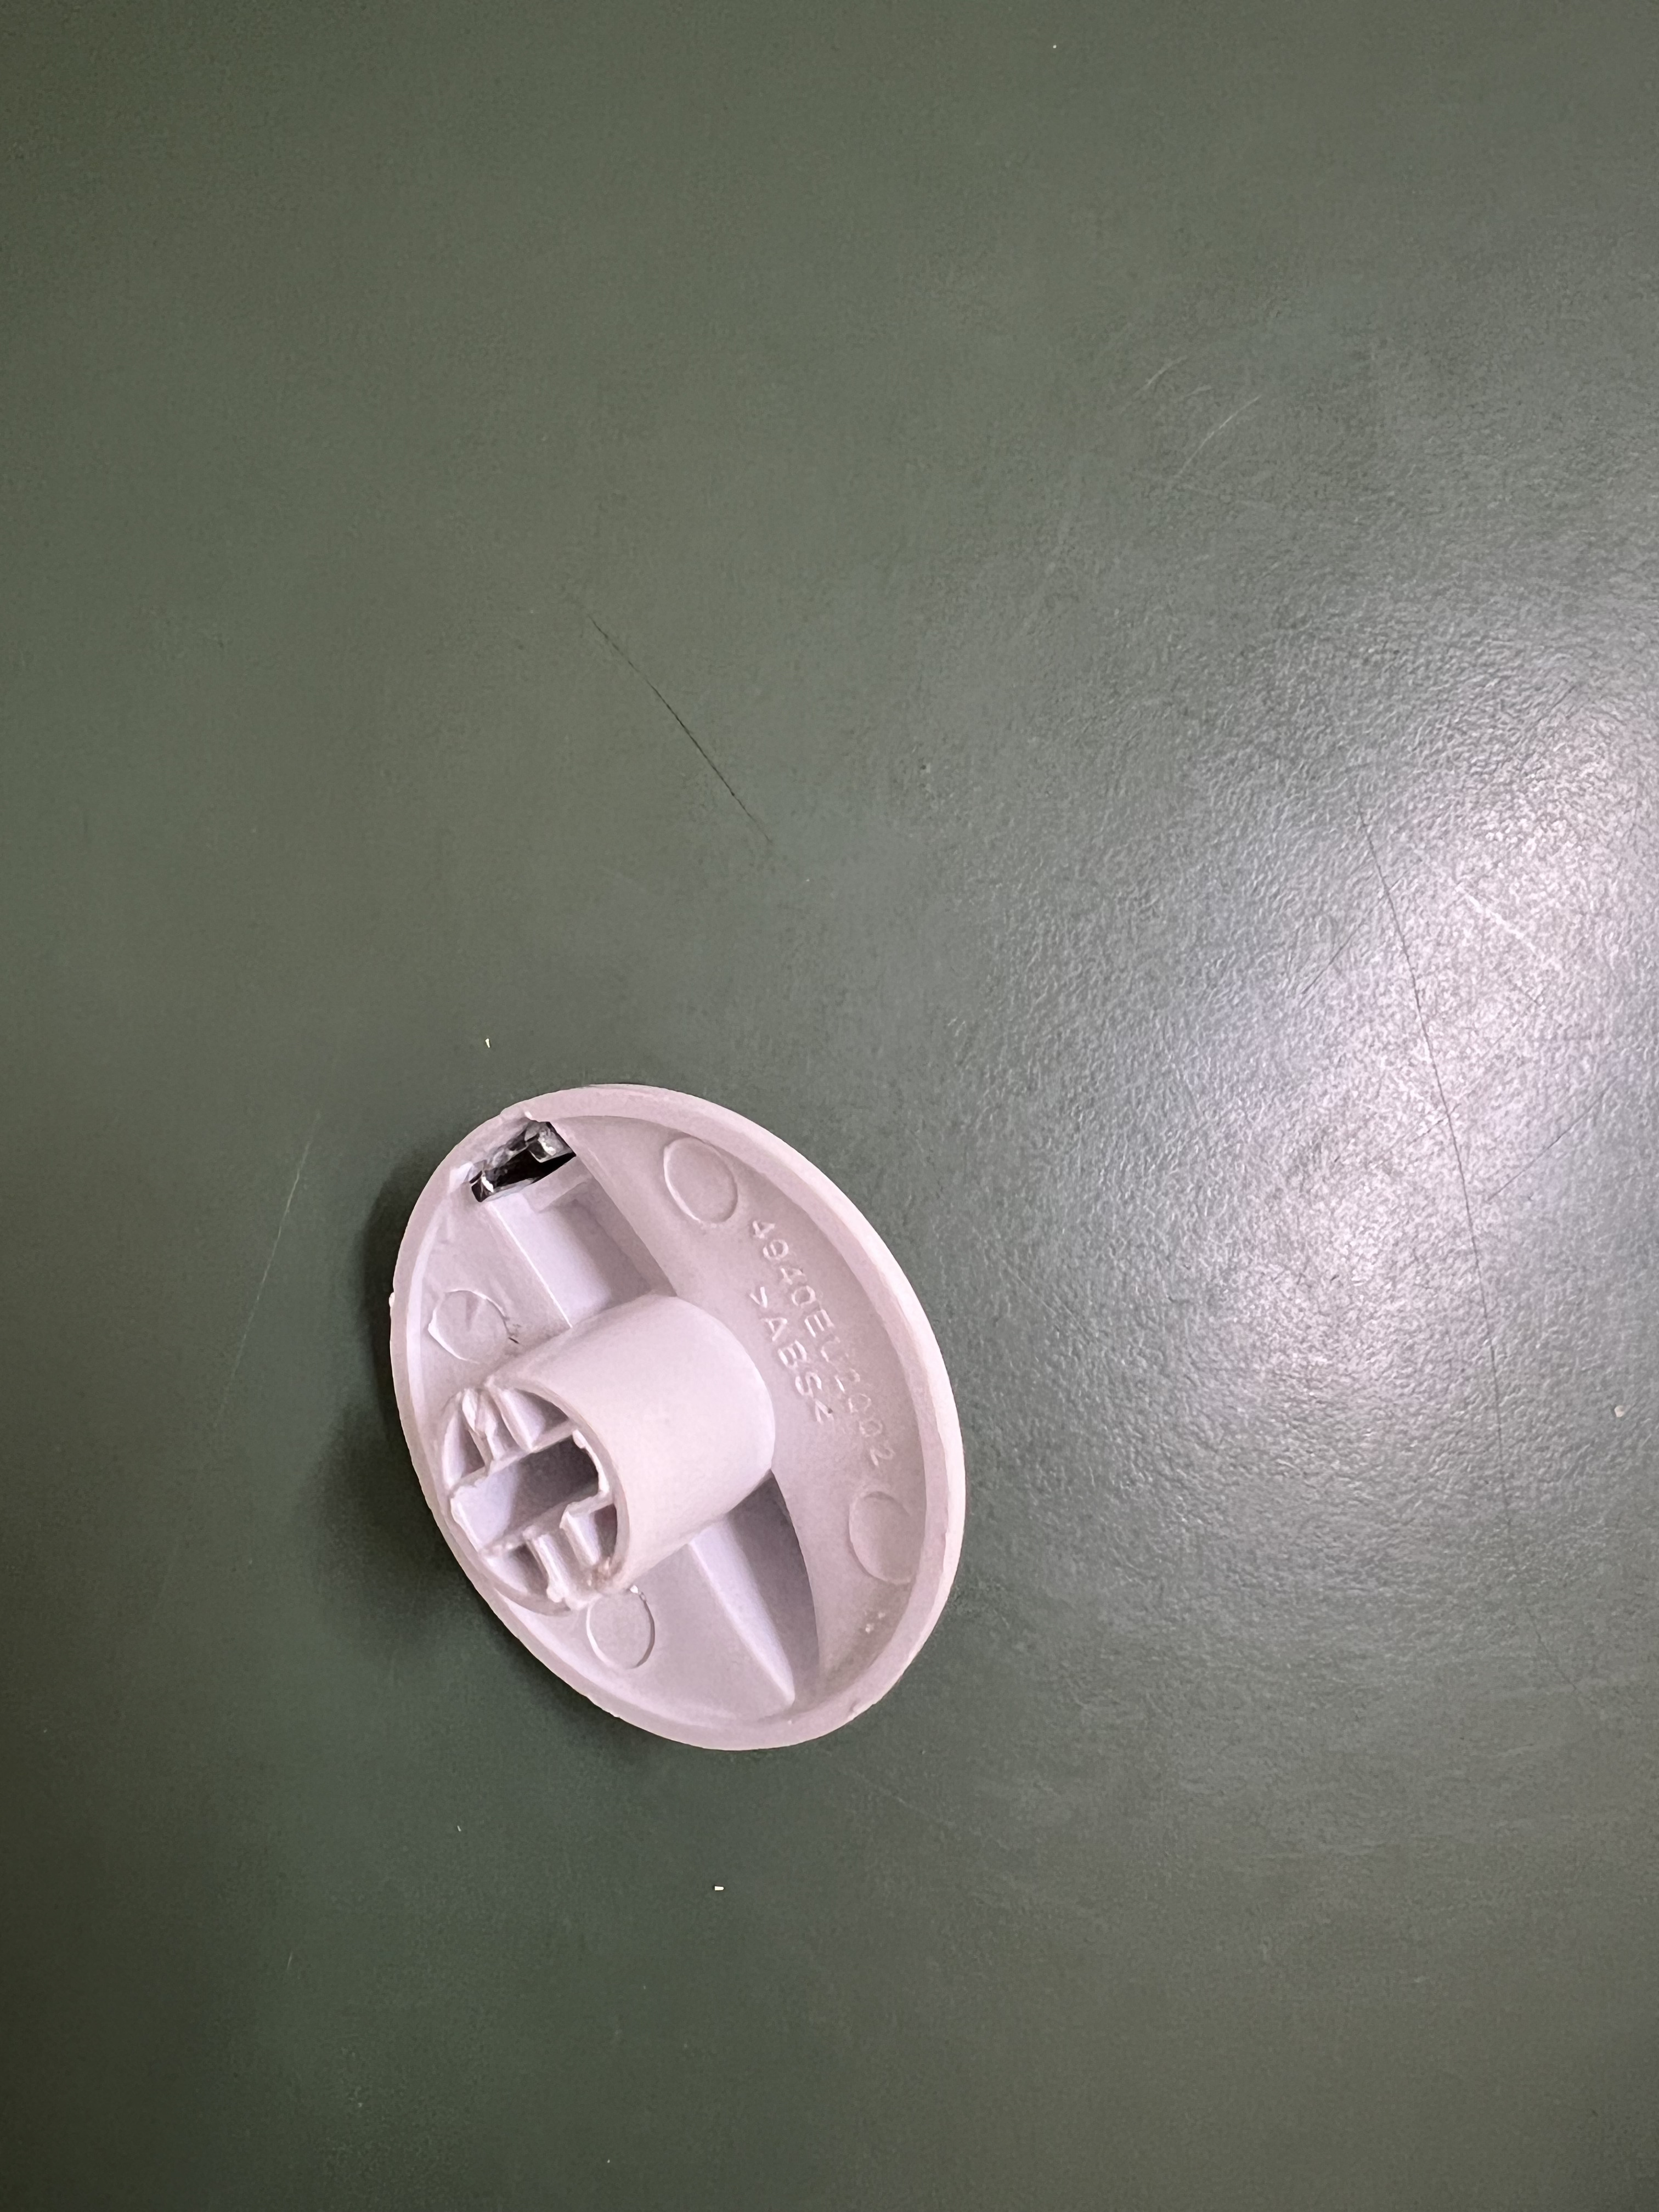regulator: (390, 1075, 972, 1750)
